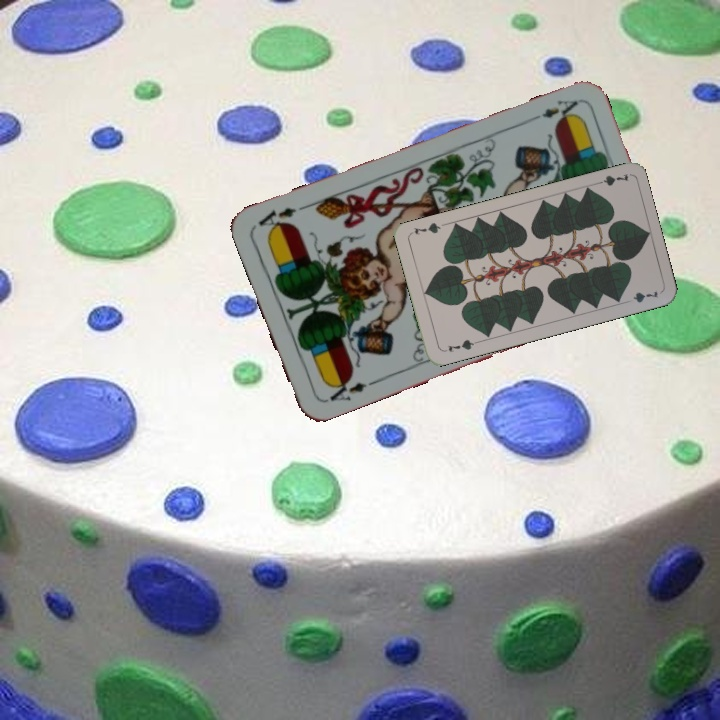EA: (525, 95, 581, 126), (321, 373, 369, 405)
G7: (440, 335, 480, 355), (590, 169, 631, 188)
